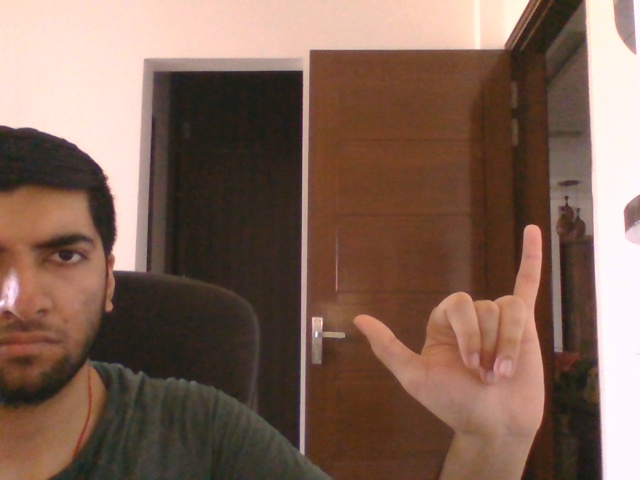LetterY: (350, 219, 550, 436)
